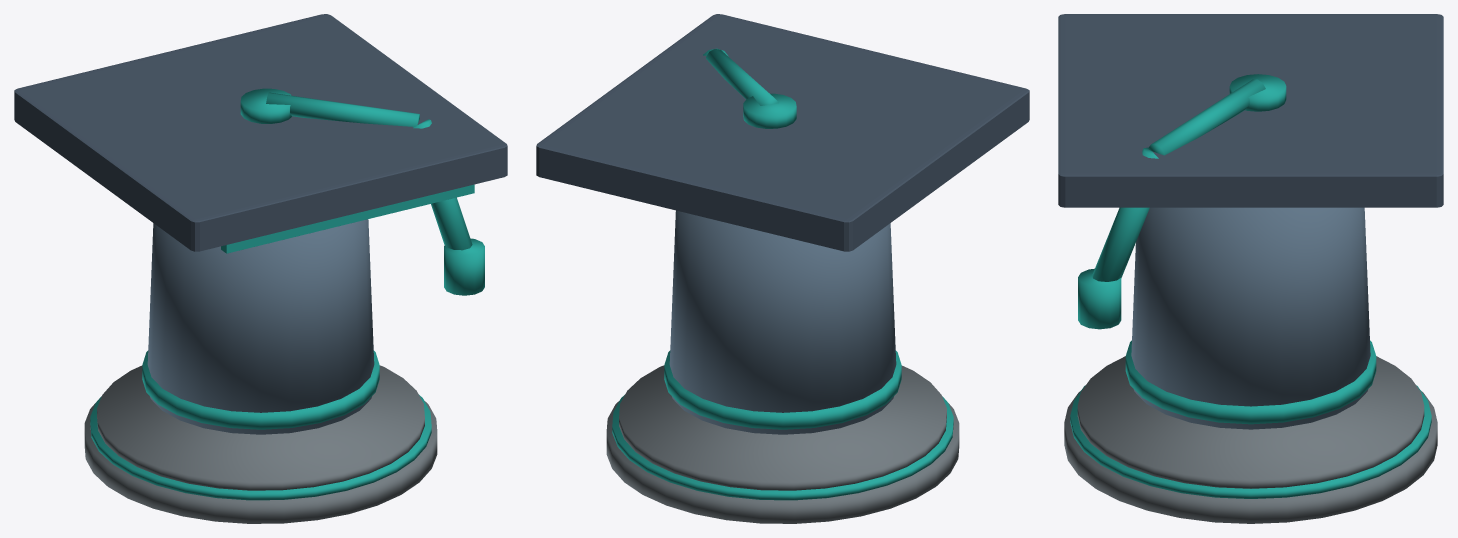
Rendered from GraduationCap.glb.
The picture shows the model from 3 angles, left to right: view 1: azimuth 30°, elevation 25°; view 2: azimuth 150°, elevation 25°; view 3: azimuth 270°, elevation 25°; orthographic projection. The views are drawn at different scales.
Parts seen in each view (by area): view 1: Cap_mortarboard, Cap_crown, Base_top, Base_foot, Cap_crown_band, Base_accent_ring, Cap_tassel_top, Cap_front_rim, Cap_tassel_tip, Cap_tassel_drop, Cap_top_button; view 2: Cap_mortarboard, Cap_crown, Base_top, Base_foot, Cap_crown_band, Base_accent_ring, Cap_top_button, Cap_tassel_top; view 3: Cap_mortarboard, Cap_crown, Base_top, Base_foot, Cap_crown_band, Base_accent_ring, Cap_tassel_top, Cap_tassel_drop, Cap_tassel_tip, Cap_top_button.
Boxes of the visible parts, x1,y1,x2,y2 form: Cap_mortarboard: (14, 14, 507, 251); Cap_crown: (147, 219, 374, 434); Base_top: (97, 365, 424, 490); Base_foot: (84, 401, 437, 523); Cap_crown_band: (142, 350, 379, 429); Base_accent_ring: (90, 395, 431, 500); Cap_tassel_top: (266, 92, 419, 126); Cap_front_rim: (221, 184, 474, 253); Cap_tassel_tip: (444, 238, 484, 295); Cap_tassel_drop: (413, 119, 472, 250); Cap_top_button: (240, 88, 291, 123); Cap_mortarboard: (536, 14, 1029, 251); Cap_crown: (669, 210, 896, 434); Base_top: (619, 365, 946, 490); Base_foot: (606, 401, 959, 523); Cap_crown_band: (664, 350, 901, 429); Base_accent_ring: (612, 395, 953, 500); Cap_top_button: (743, 93, 796, 128); Cap_tassel_top: (706, 49, 778, 105); Cap_mortarboard: (1058, 14, 1443, 207); Cap_crown: (1131, 207, 1370, 429); Base_top: (1077, 356, 1424, 488); Base_foot: (1064, 391, 1437, 523); Cap_crown_band: (1125, 340, 1376, 424); Base_accent_ring: (1070, 385, 1431, 498); Cap_tassel_top: (1148, 79, 1265, 155); Cap_tassel_drop: (1092, 147, 1158, 281); Cap_tassel_tip: (1078, 268, 1121, 329); Cap_top_button: (1229, 74, 1286, 111).
Bounding box in the file's own units: 0.815 × 0.8659 × 0.815.
